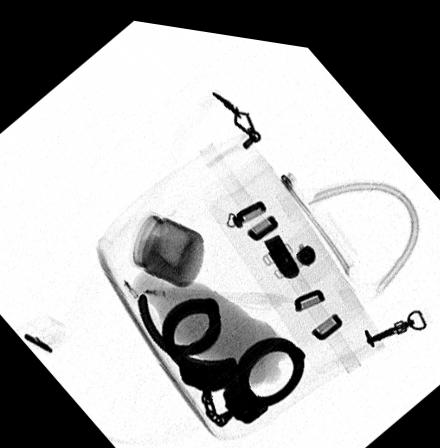HandCuffs: (134, 286, 306, 419)
